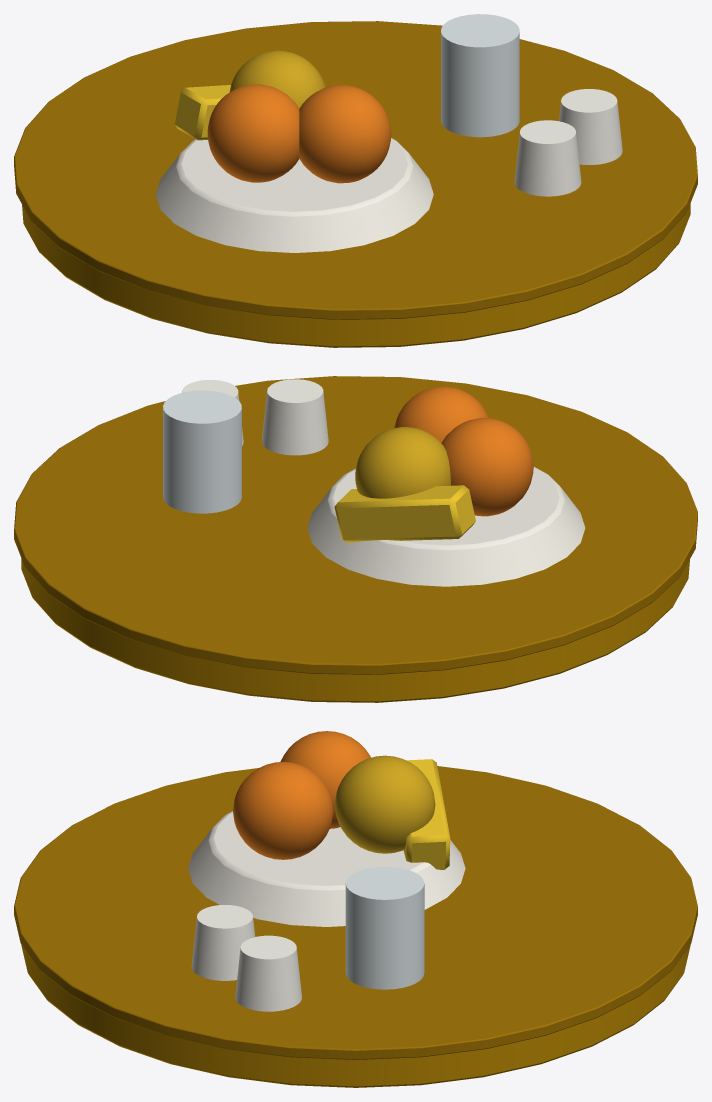
The model's file is MamDong_HoaQuaTho.glb.
3 views of the same model, one above another, from view 1: azimuth 30°, elevation 25°; view 2: azimuth 150°, elevation 25°; view 3: azimuth 270°, elevation 25° (orthographic).
Visible parts, largest first — view 1: MamDong_HoaQuaTho; view 2: MamDong_HoaQuaTho; view 3: MamDong_HoaQuaTho.
Part boxes in pixels (bbox=[...]): MamDong_HoaQuaTho: bbox=[14, 14, 697, 347]; MamDong_HoaQuaTho: bbox=[14, 376, 697, 702]; MamDong_HoaQuaTho: bbox=[14, 731, 697, 1087].
Bounding box in the file's own units: 0.47 × 0.1187 × 0.47.
